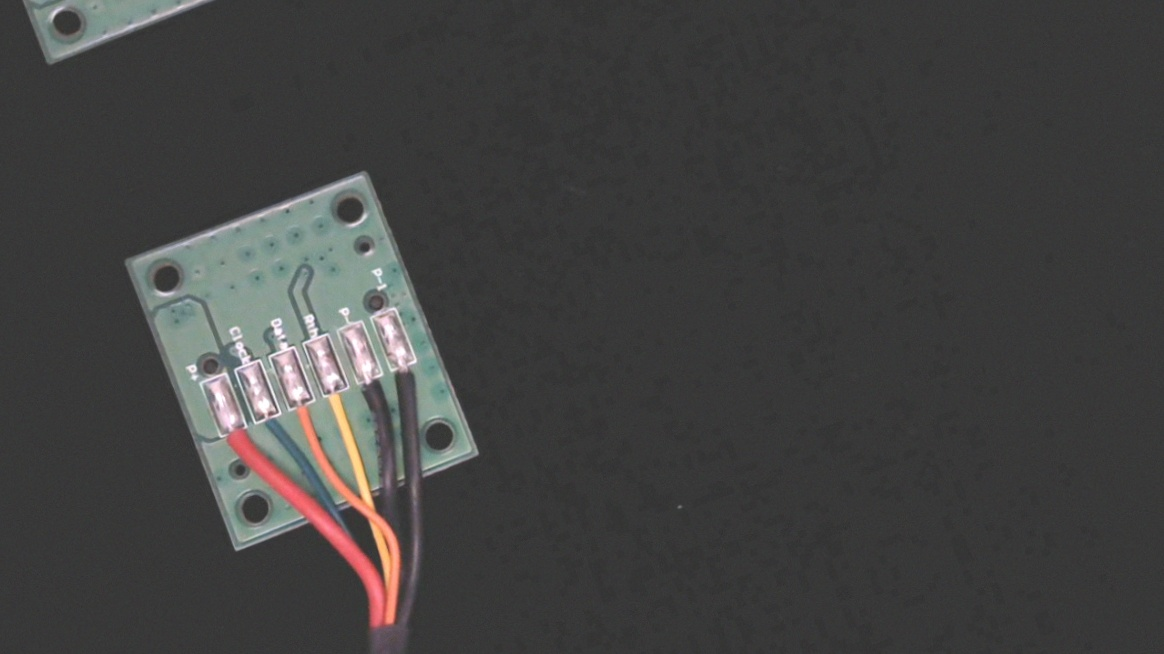Black: (347, 353, 401, 428)
Black1: (381, 342, 432, 411)
Green: (246, 391, 299, 463)
Orange: (280, 380, 332, 453)
Red: (209, 405, 263, 477)
Yellow: (313, 366, 367, 442)
